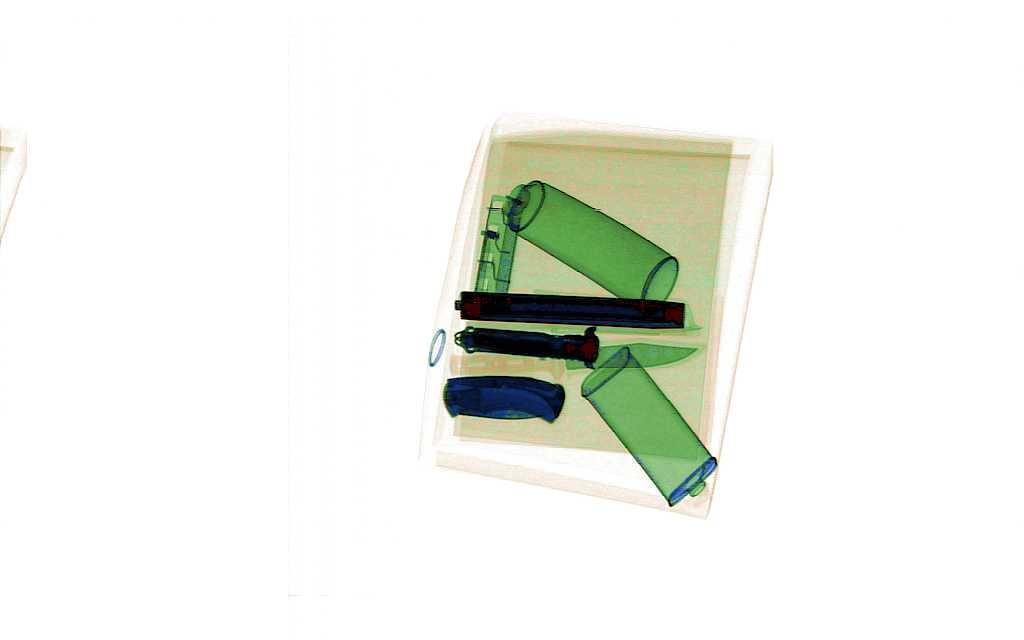Knife: (432, 371, 570, 423), (450, 320, 605, 364), (562, 337, 699, 372)
